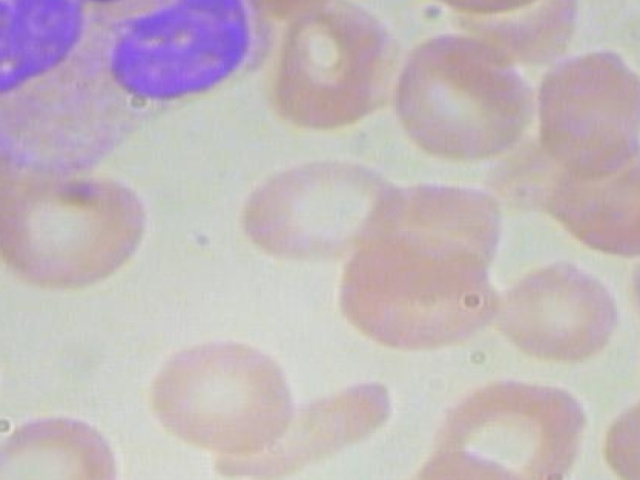RBC: (0, 164, 163, 295), (236, 156, 416, 271), (390, 33, 541, 167), (332, 231, 502, 350), (146, 328, 295, 460), (424, 377, 599, 480), (259, 0, 395, 129), (491, 257, 624, 371), (530, 40, 640, 177), (0, 408, 132, 480), (591, 385, 640, 480), (623, 244, 640, 353), (0, 332, 11, 444)
WBC: (0, 0, 271, 172)
